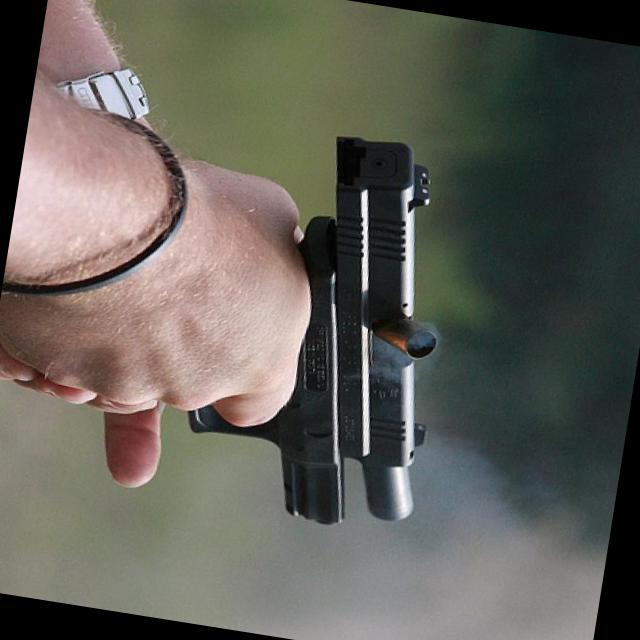handgun: (166, 106, 474, 540)
